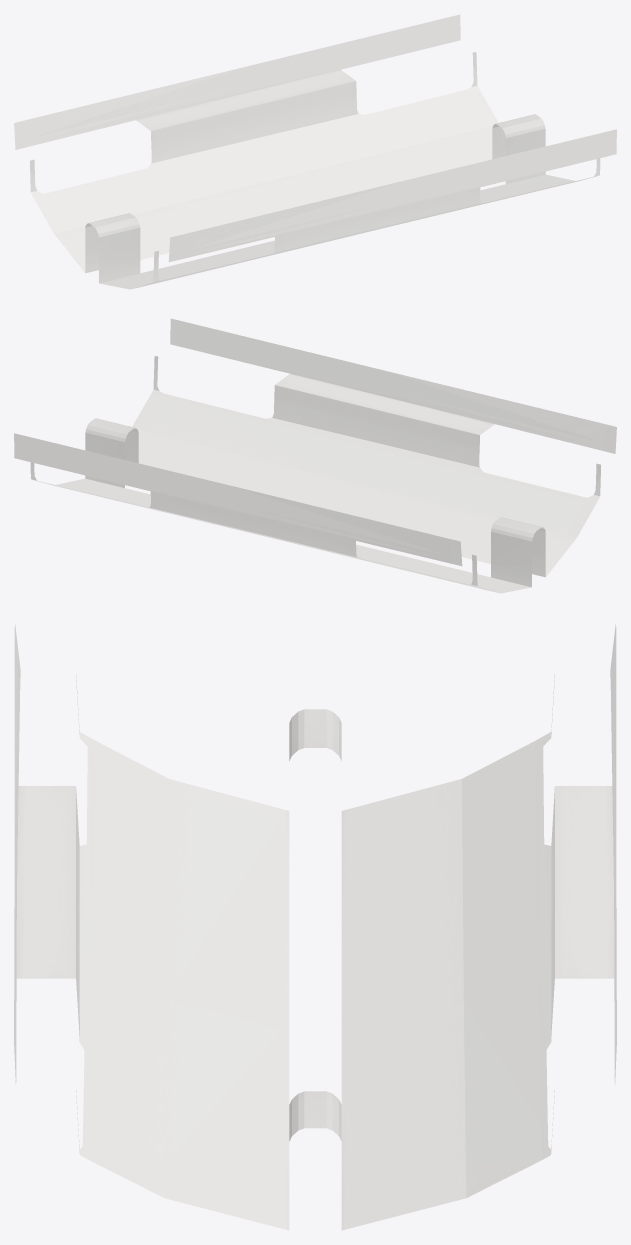
File: HLO_Pod_Bottom_Center.gltf
3 renders of one model, top to bottom at view 1: azimuth 30°, elevation 25°; view 2: azimuth 150°, elevation 25°; view 3: azimuth 270°, elevation 25°, orthographic. The views are drawn at different scales.
Visible parts, largest first — view 1: 002_Pod_Bottom_Center; view 2: 002_Pod_Bottom_Center; view 3: 002_Pod_Bottom_Center.
Part boxes in pixels (x1,y1,x2,y2): 002_Pod_Bottom_Center: [14, 14, 616, 289]; 002_Pod_Bottom_Center: [14, 318, 616, 593]; 002_Pod_Bottom_Center: [14, 623, 616, 1230].
Size of the model in its own units: 4.75 by 0.9987 by 2.89.
Materials: 1 (1 with a texture image).
